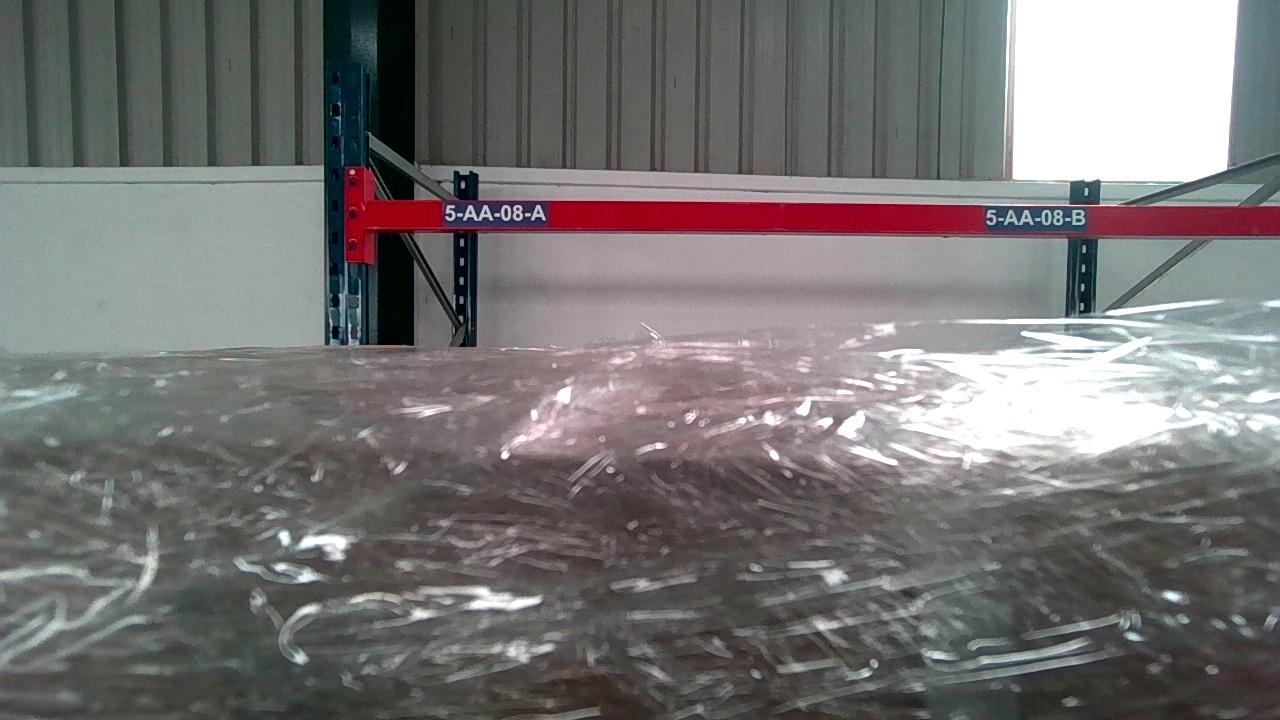h_rack: (368, 199, 1279, 238)
